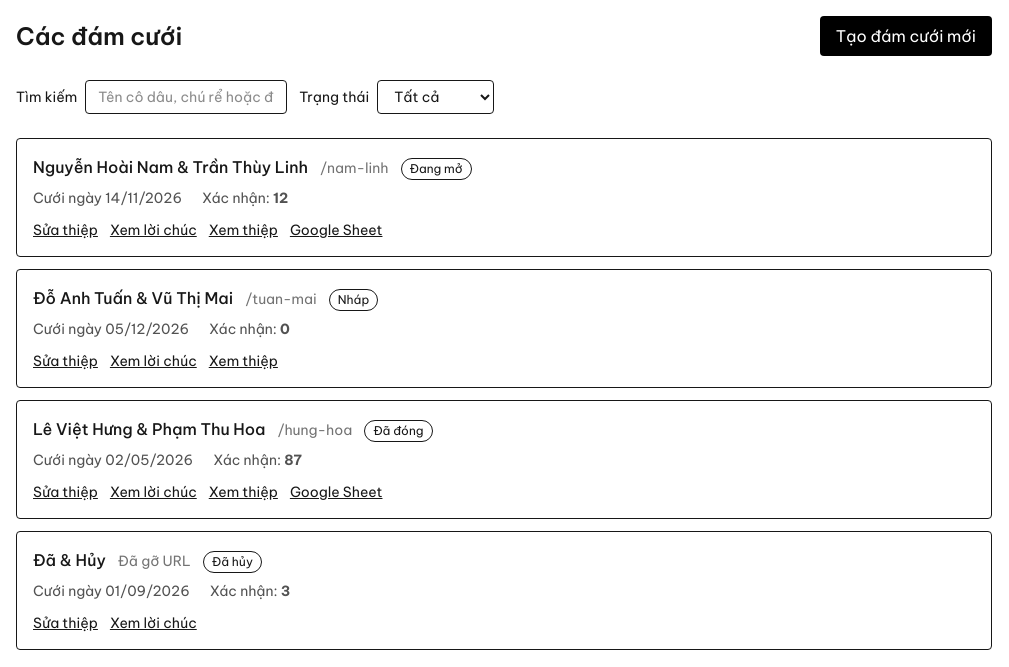
BangDieuKhien › lọc theo trạng thái
Select "Đã đóng" in the dropdown labelled "Trạng thái": {"x": 436, "y": 97} x1=377 y1=80 x2=494 y2=114
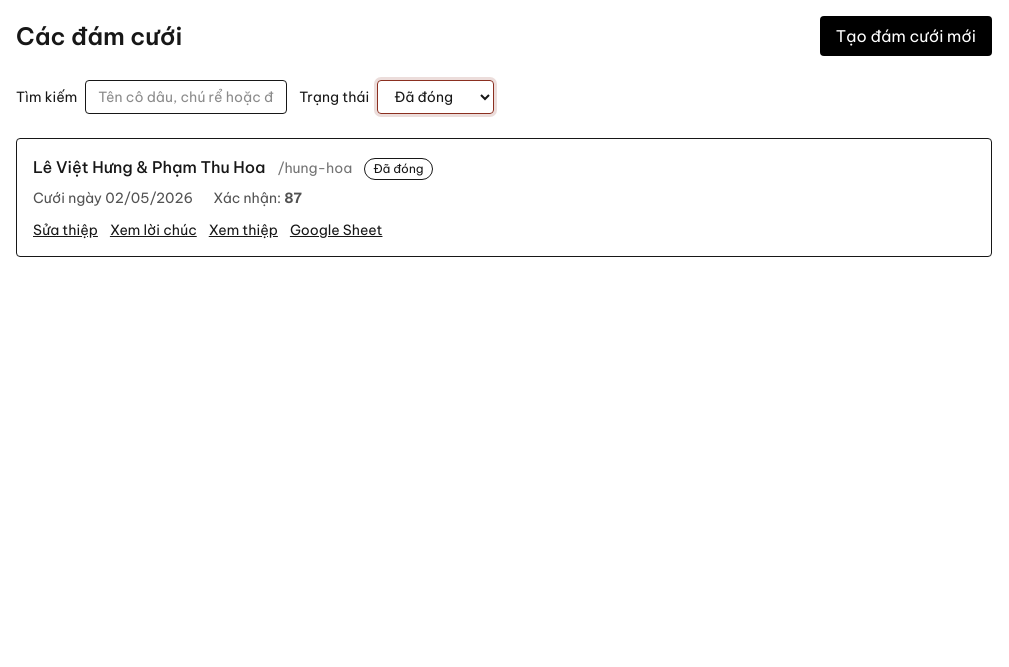
Expected: the text "Lê Việt Hưng & Phạm Thu Hoa" is shown, x1=33 y1=155 x2=265 y2=179
Result: the text "Nguyễn Hoài Nam" is gone
